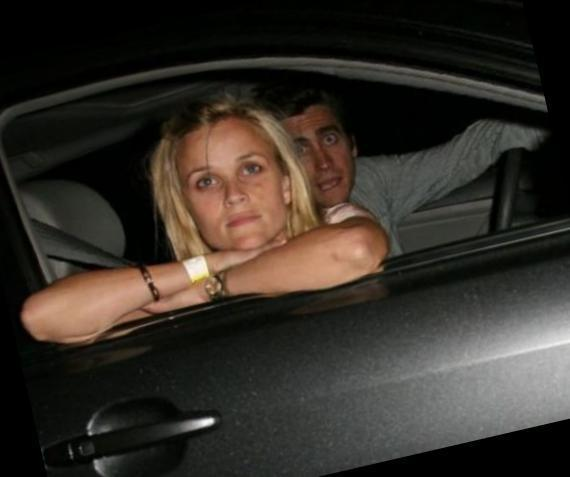Drunk: (179, 123, 283, 246), (288, 112, 353, 201)
